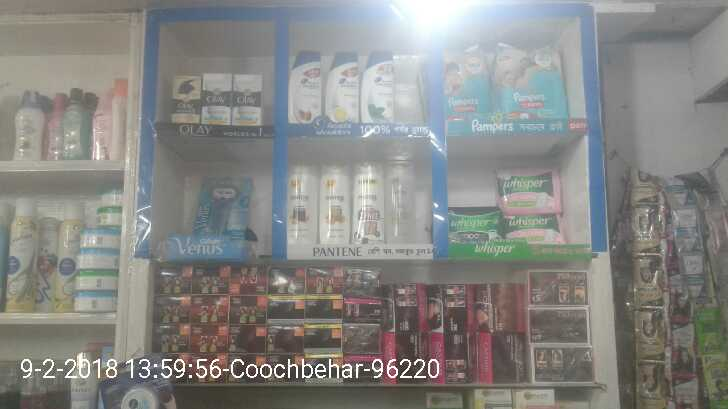venus: (193, 175, 249, 235)
